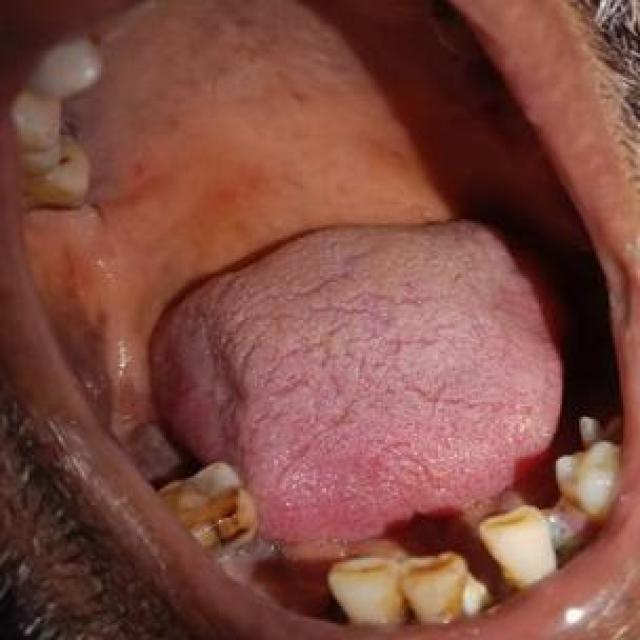processing_area: (25, 0, 569, 596)
